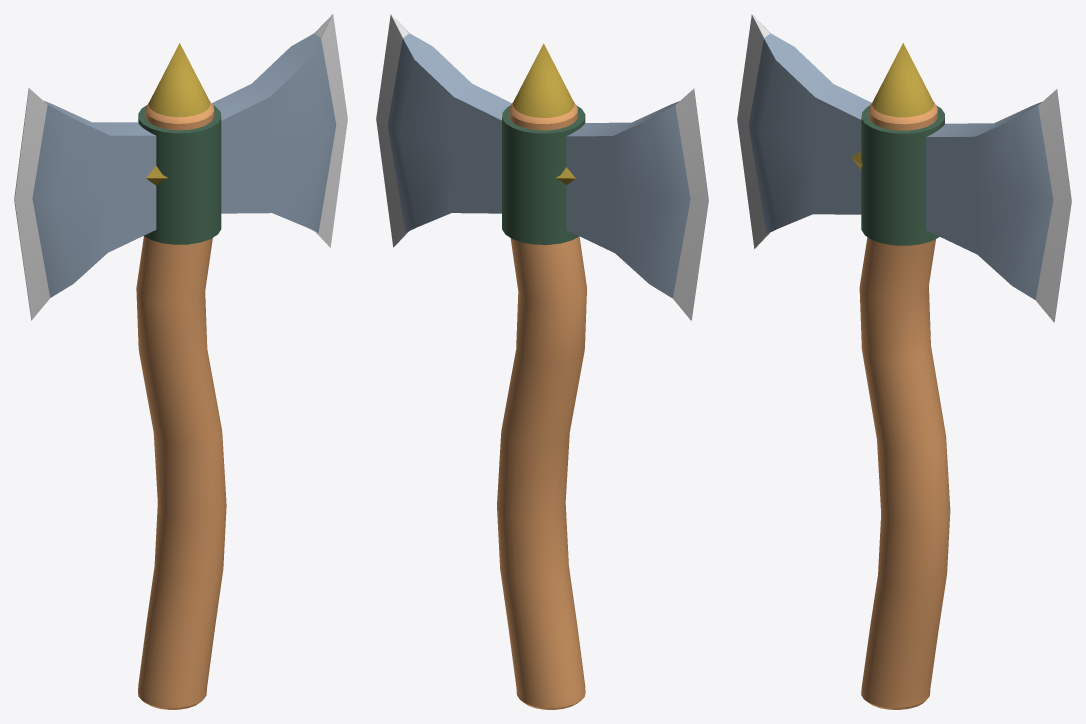
The model's file is Machado.fbx.
3 views of the same model, side by side, from view 1: azimuth 30°, elevation 25°; view 2: azimuth 150°, elevation 25°; view 3: azimuth 330°, elevation 25° (orthographic).
Parts seen in each view (by area): view 1: Nivel_1, Nivel_3, Nivel_4; view 2: Nivel_1, Nivel_3, Nivel_4; view 3: Nivel_1, Nivel_3, Nivel_4.
Part boxes in pixels (x1=…): Nivel_1: x1=136, y1=14, x2=347, y2=709; Nivel_3: x1=14, y1=88, x2=156, y2=320; Nivel_4: x1=148, y1=43, x2=210, y2=117; Nivel_1: x1=376, y1=14, x2=586, y2=709; Nivel_3: x1=566, y1=88, x2=708, y2=320; Nivel_4: x1=513, y1=43, x2=574, y2=117; Nivel_1: x1=859, y1=89, x2=1071, y2=709; Nivel_3: x1=737, y1=14, x2=871, y2=248; Nivel_4: x1=872, y1=43, x2=934, y2=117.
Size of the model in its own units: 40.46 by 76.17 by 8.81.
1 material, 1 textured.
